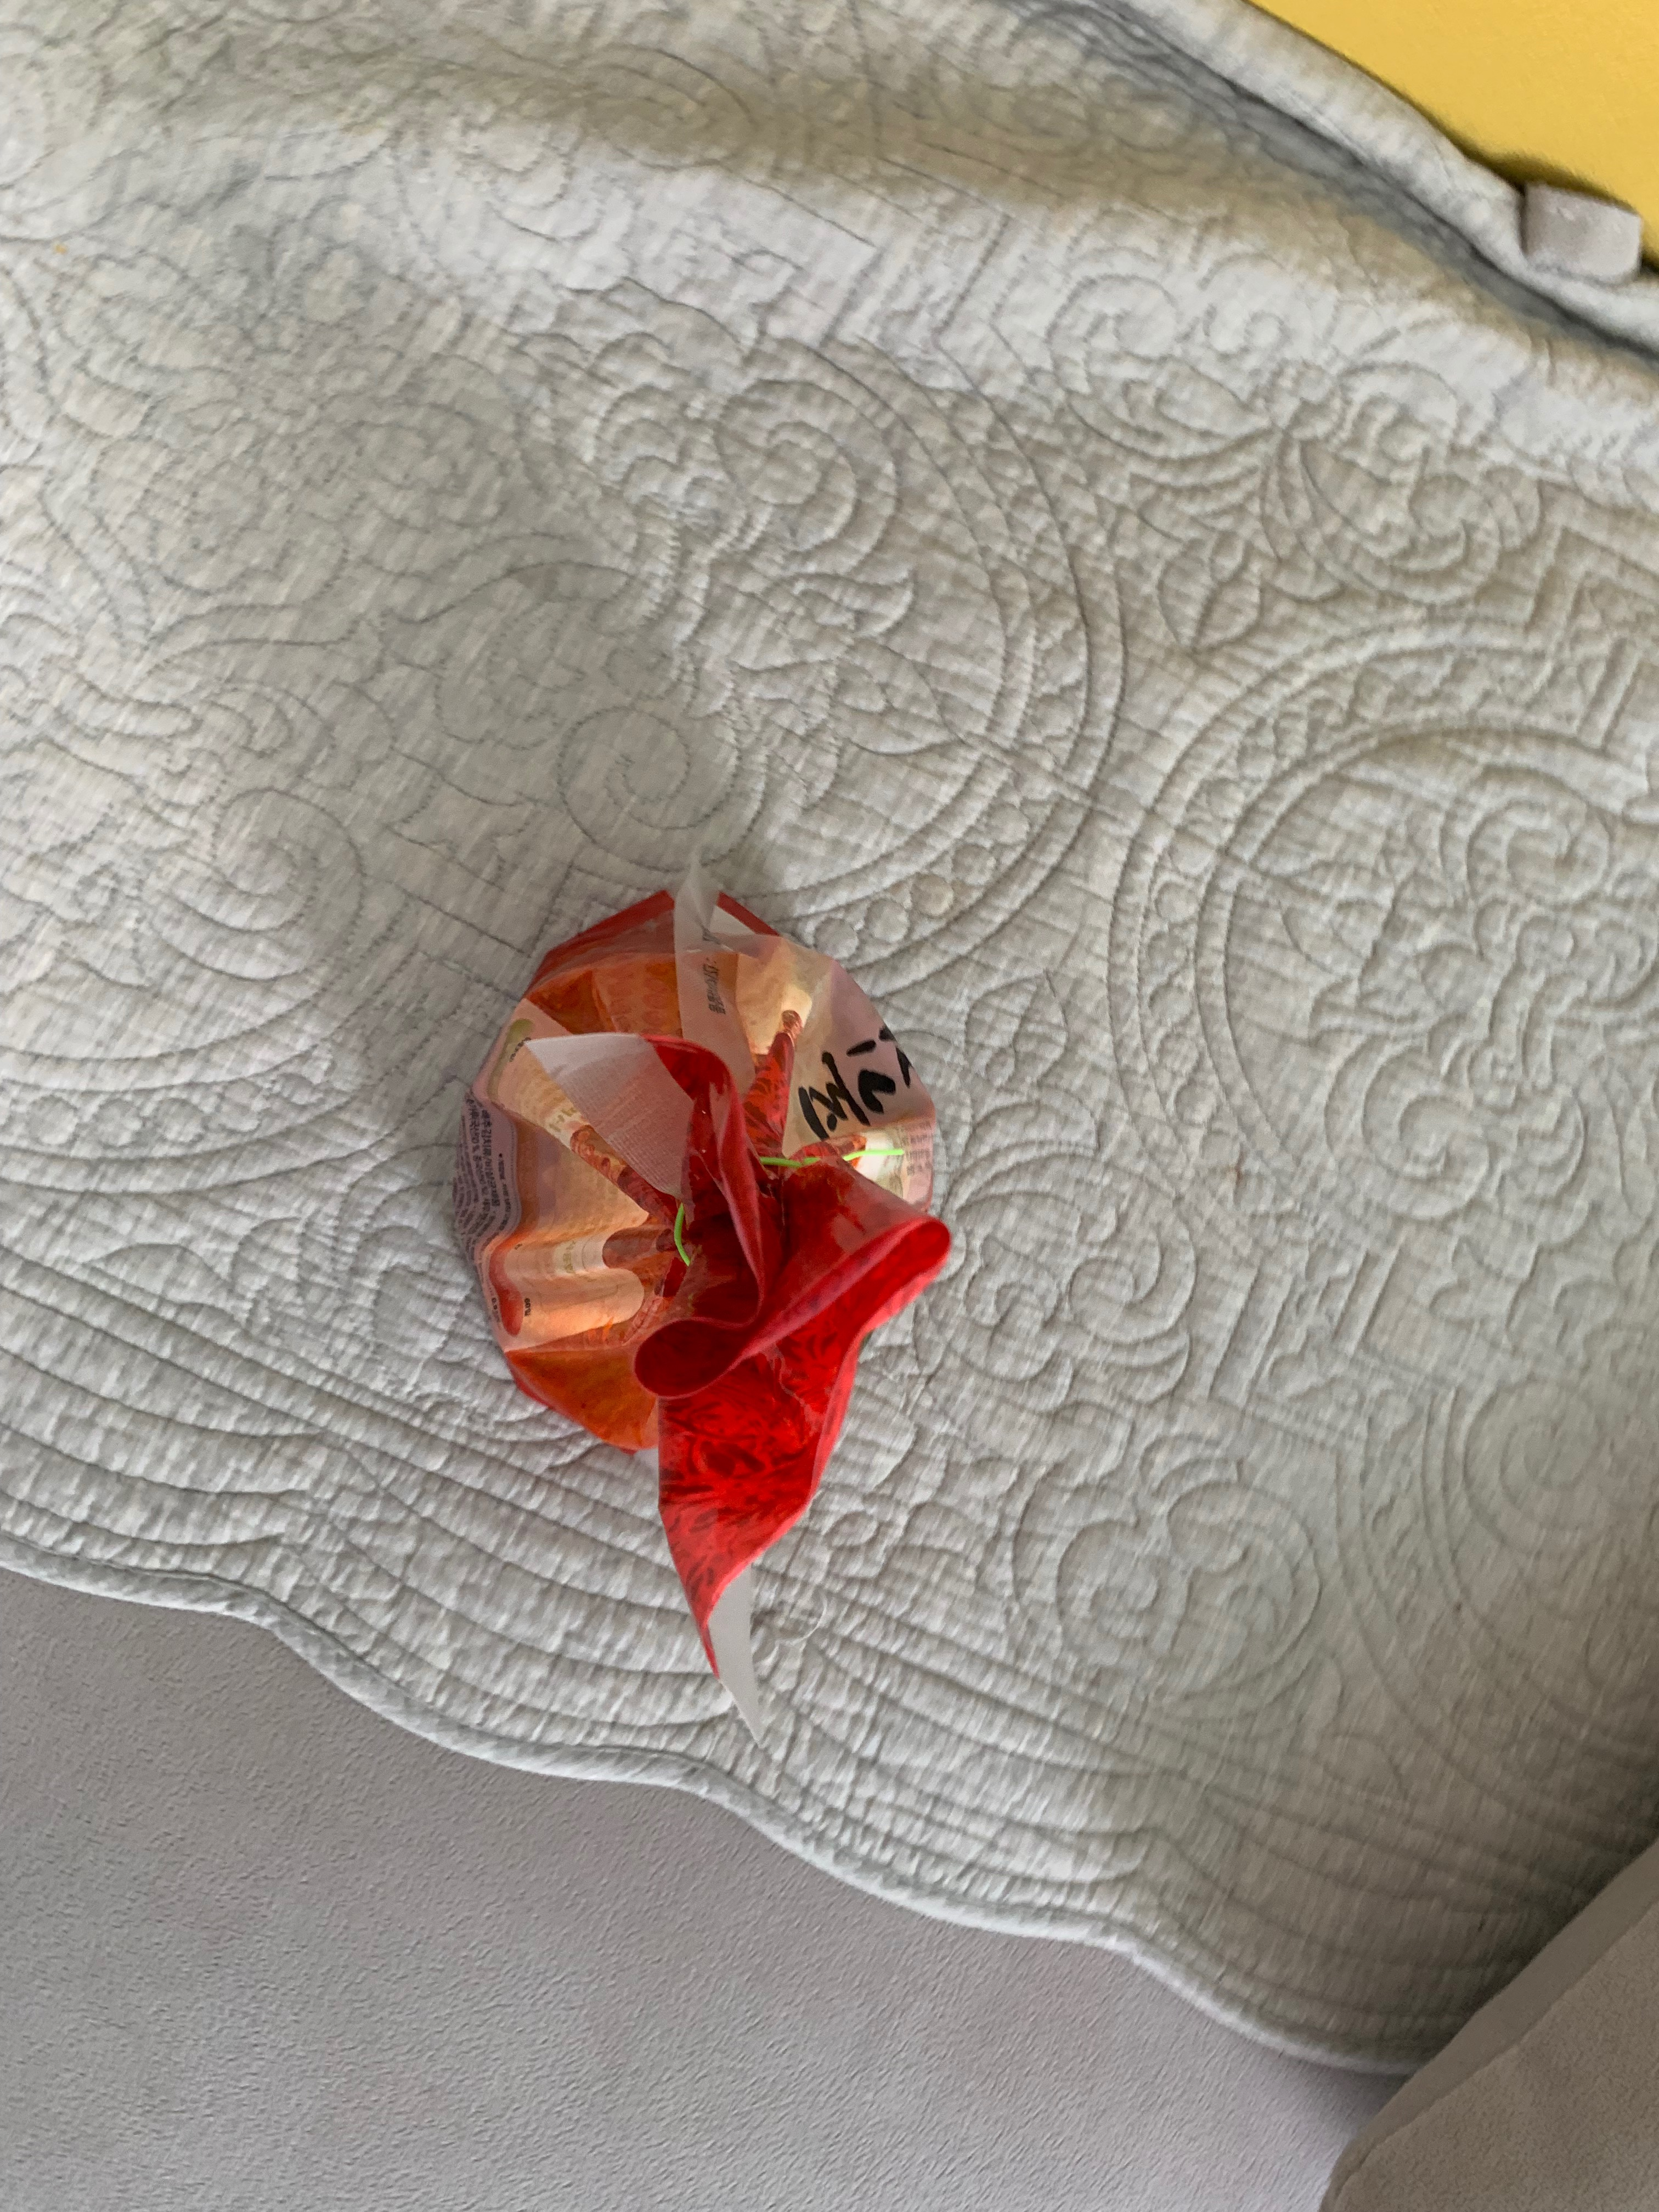kimchi: (460, 892, 958, 1474)
